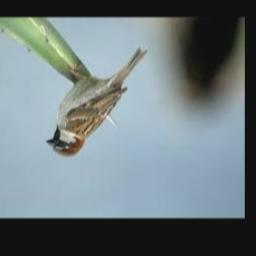Sparrow: (47, 49, 148, 158)
